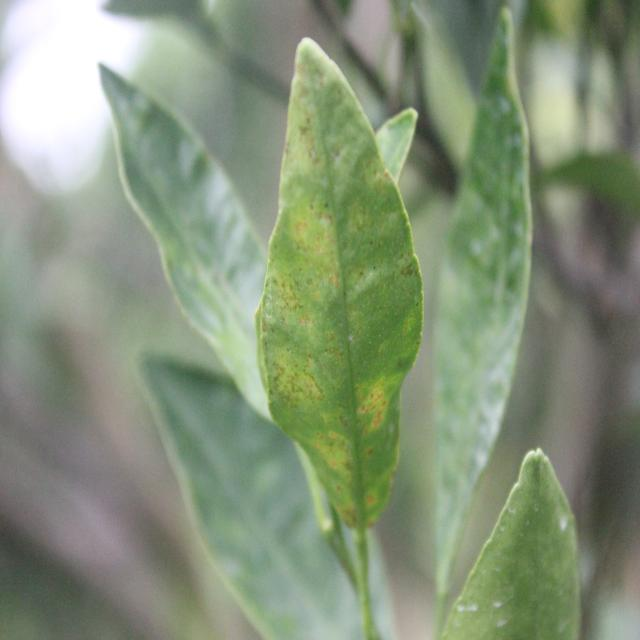canker: (258, 71, 427, 526)
